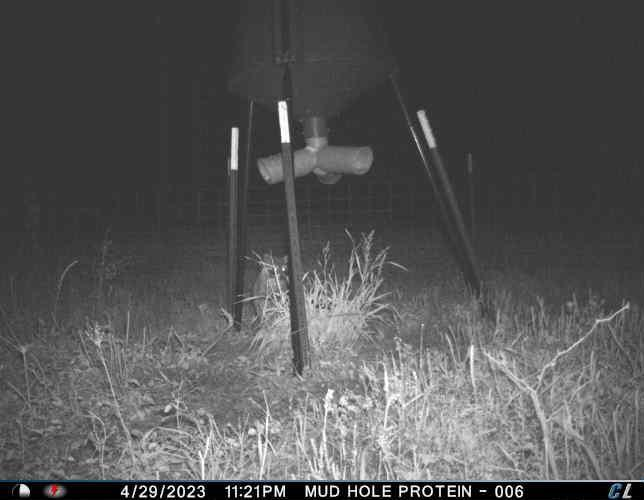Raccoon: (251, 250, 291, 329)
